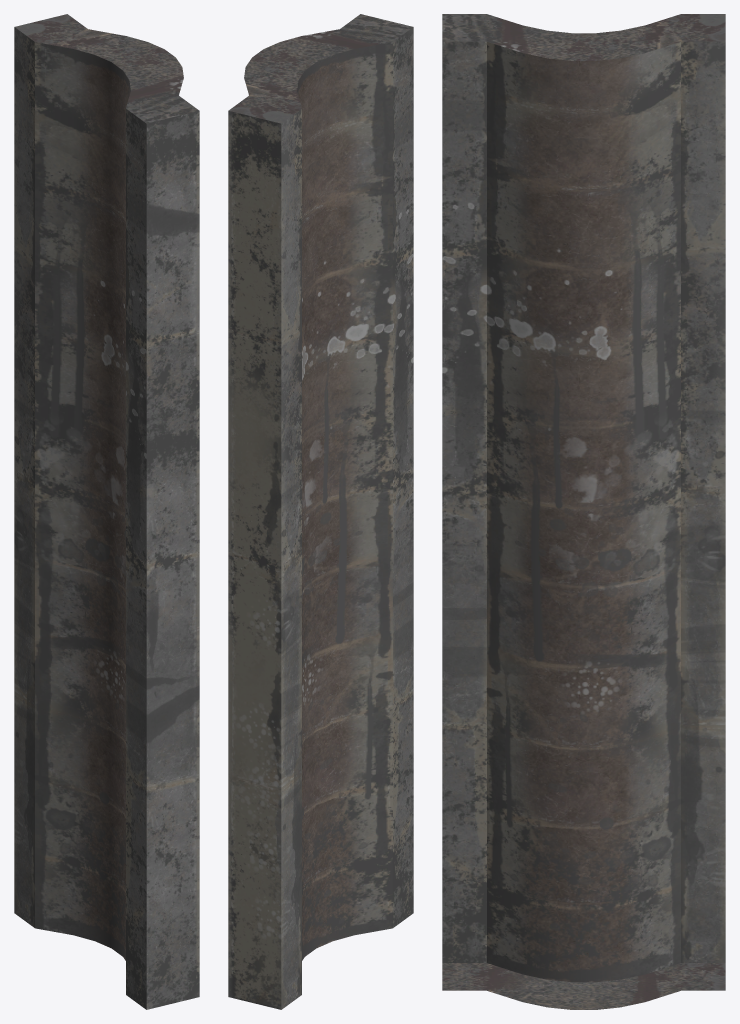
File: SM_SeverPiece.FBX
3 renders of one model, left to right at view 1: azimuth 30°, elevation 25°; view 2: azimuth 150°, elevation 25°; view 3: azimuth 270°, elevation 25°, orthographic. The views are drawn at different scales.
Visible parts, largest first — view 1: SM_SeverPiece; view 2: SM_SeverPiece; view 3: SM_SeverPiece.
Boxes of the visible parts, x1,y1,x2,y2 form: SM_SeverPiece: (14,14,199,1009); SM_SeverPiece: (228,14,413,1009); SM_SeverPiece: (442,14,725,1009).
Bounding box in the file's own units: 31.79 × 81.09 × 300.
